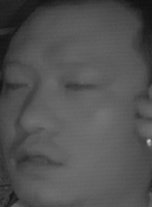blink: (65, 75, 98, 98), (5, 75, 30, 94)
mouth: (8, 143, 64, 179)
